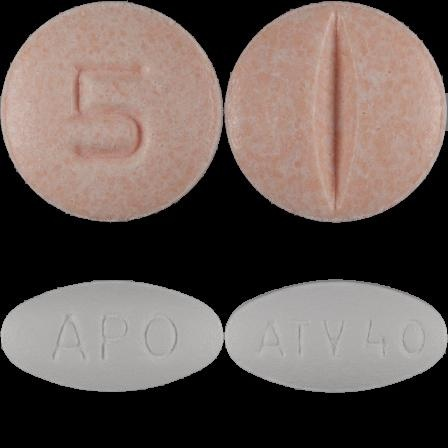54458-877: (0, 0, 224, 224)
